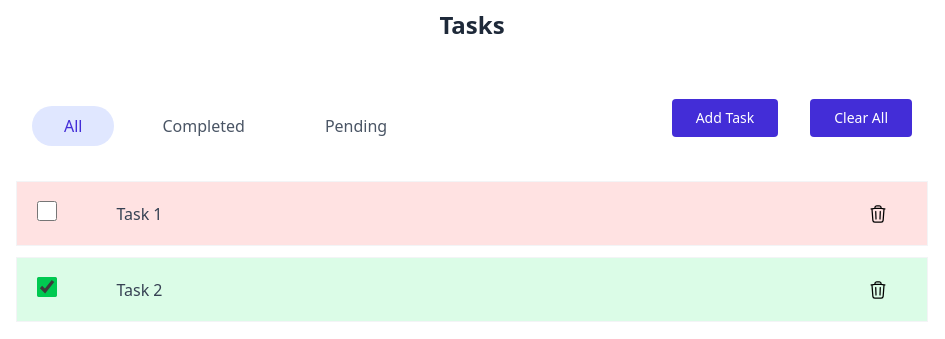
Test case: TaskList Component › filters tasks by 'pending'
Click the text "Pending". click: (356, 126)
box: x1=325 y1=114 x2=387 y2=138
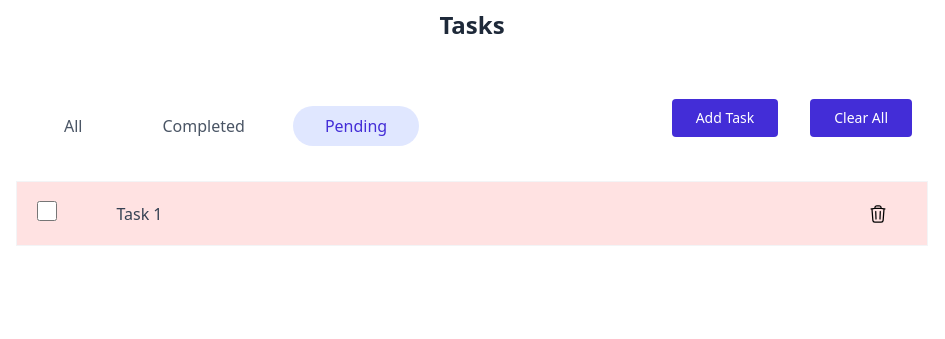
Expected: the text "Task 1" is shown, x1=116 y1=206 x2=162 y2=222
Expected: the text "Task 2" is gone
